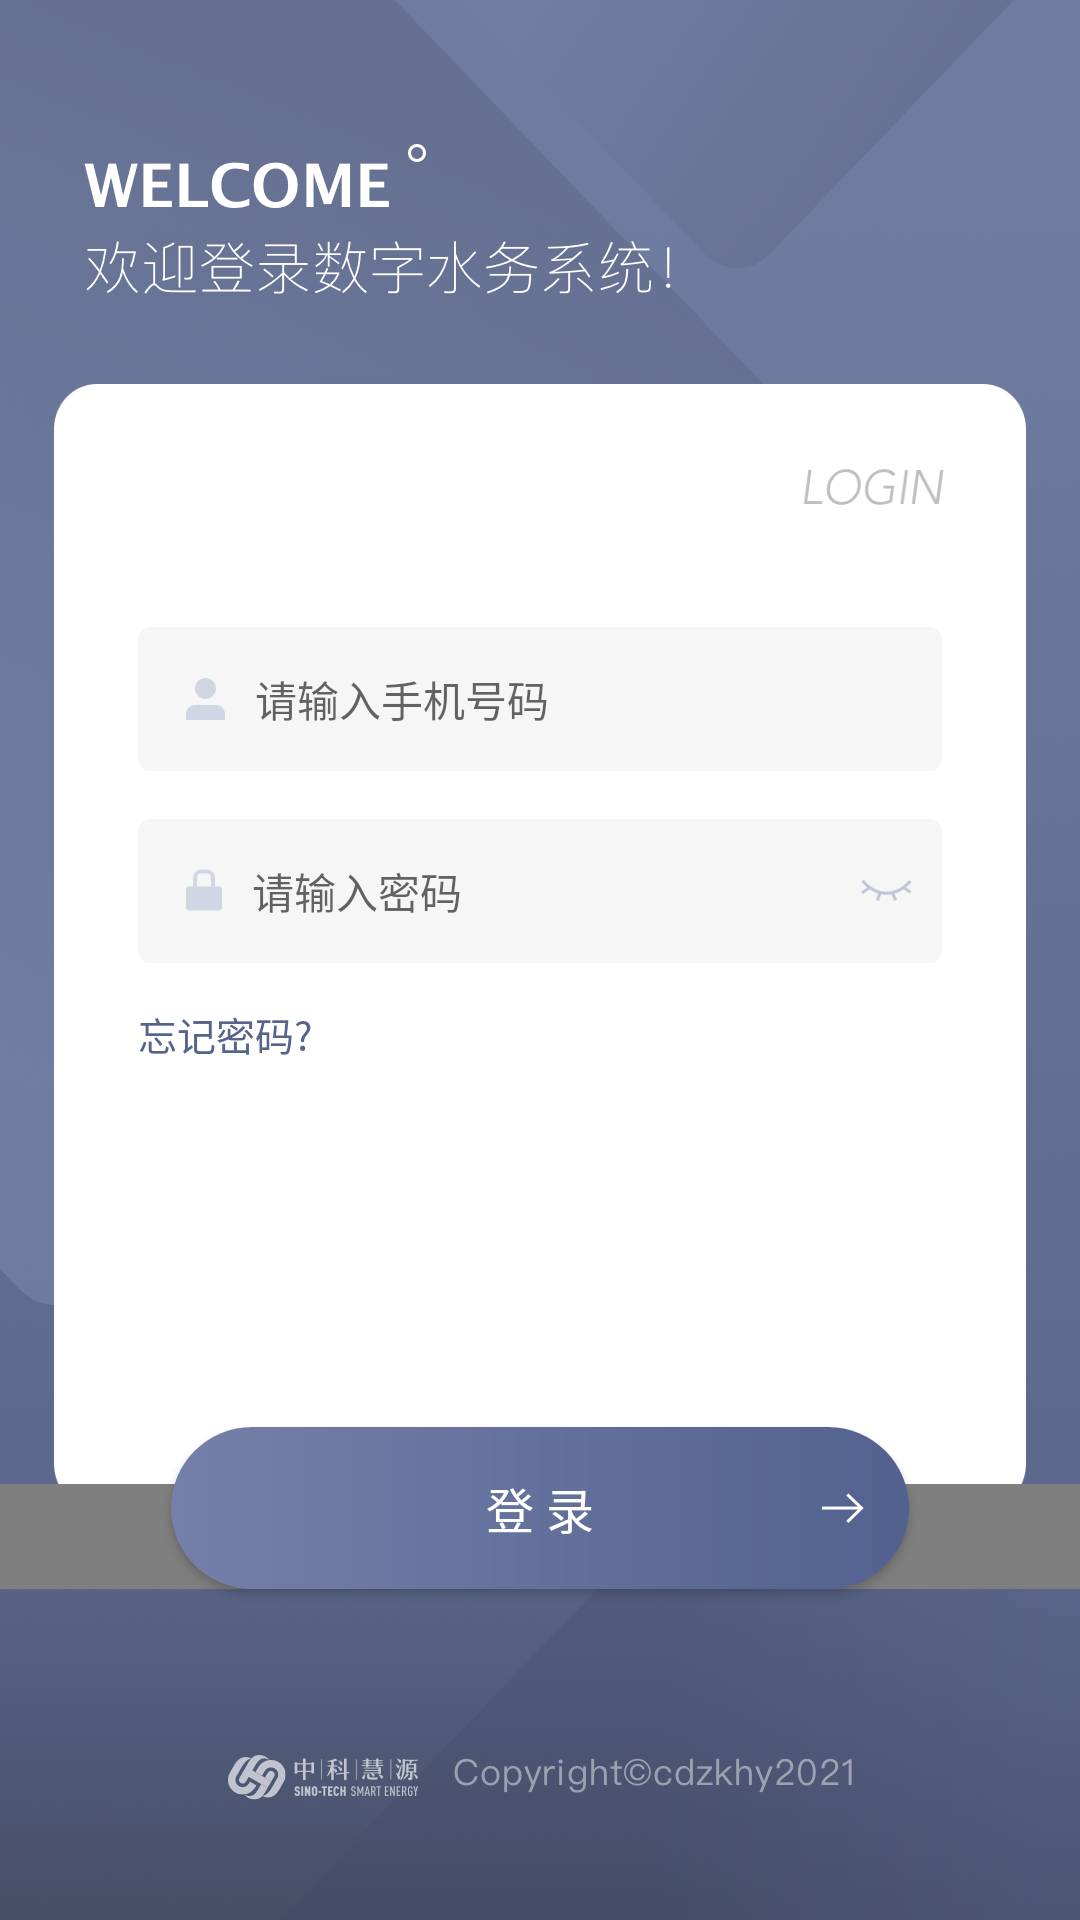

Point at icon controls on the screen. Image size 1080x1920, points as (x,y).
arrow right: (843,1508)
yincang: (886,890)
